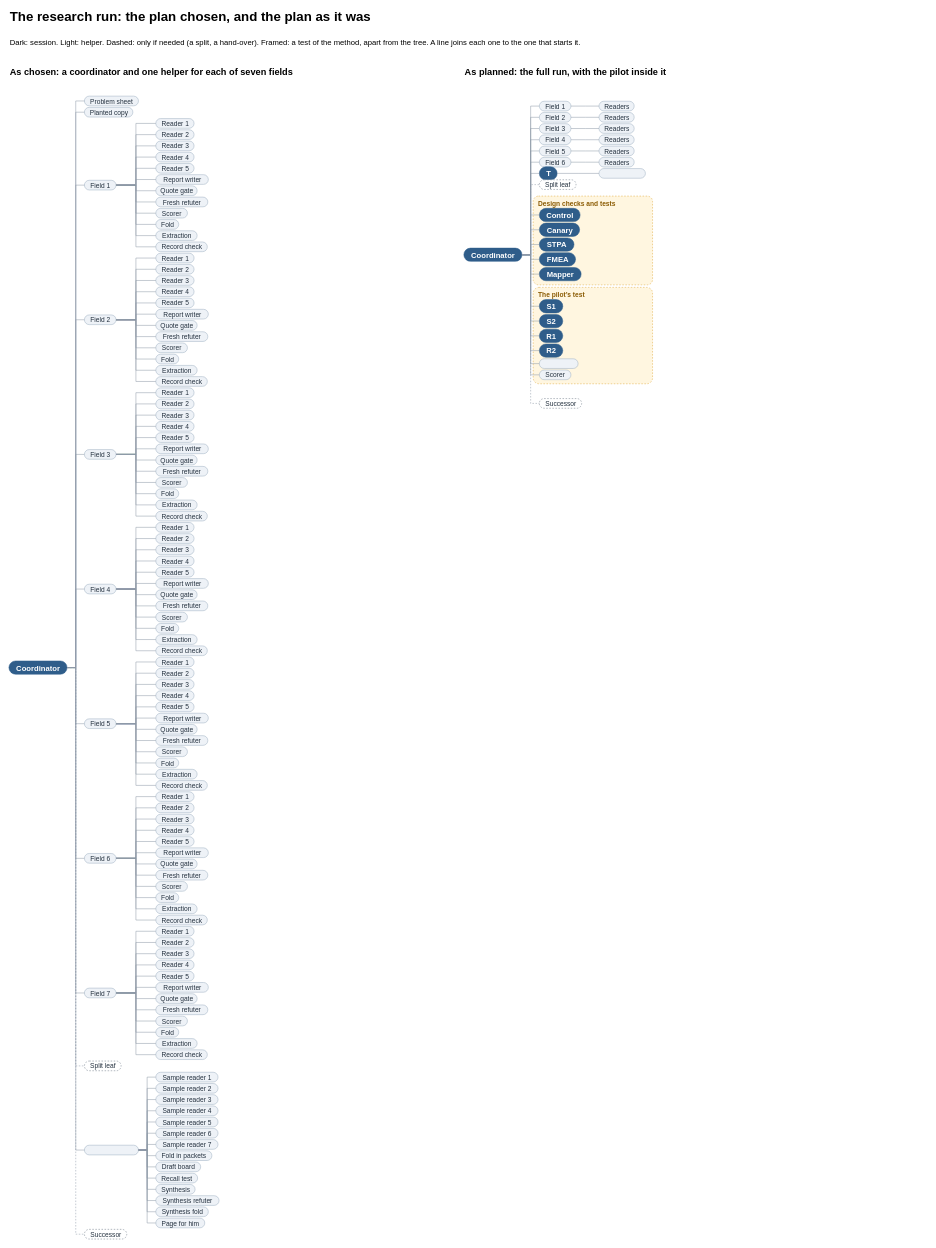
The diagram is 936 pixels wide and 1248 high, and some of its shapes have lost their labels. Each missing label, with the centre of its shape:
Checkers: point 558,363
Closing helper: point 111,1150
T’s readers: point 621,173
